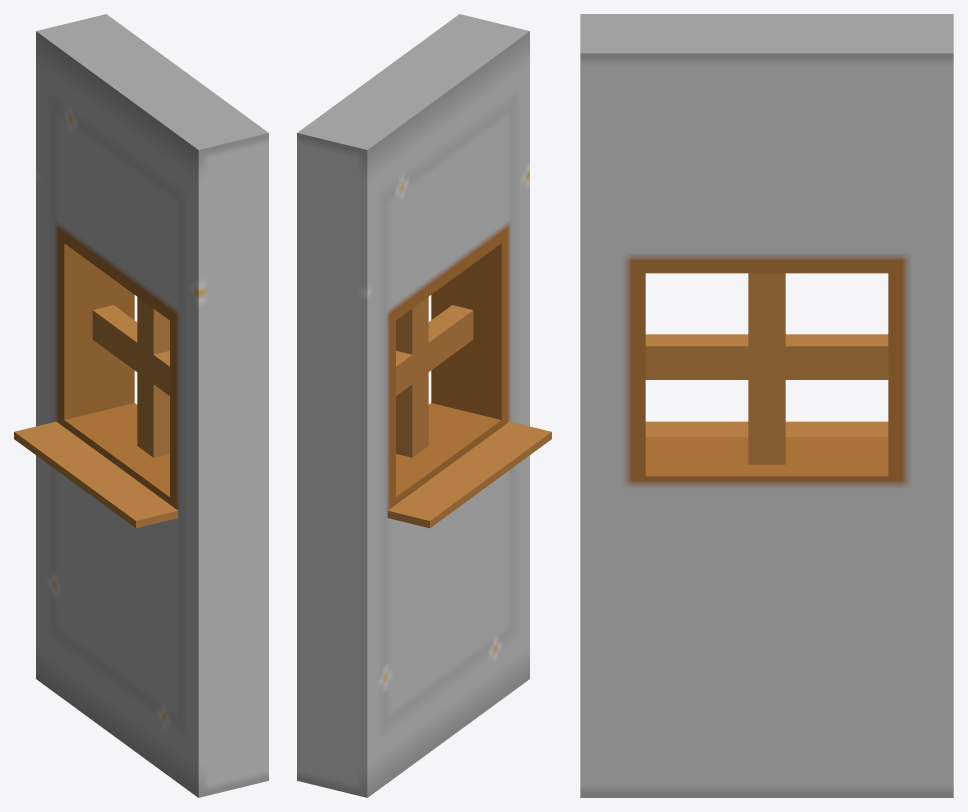
File: wall_tile_window.fbx
The picture shows the model from 3 angles, left to right: view 1: azimuth 30°, elevation 25°; view 2: azimuth 150°, elevation 25°; view 3: azimuth 270°, elevation 25°; orthographic projection. The views are drawn at different scales.
Visible parts, largest first — view 1: wall_tile_window; view 2: wall_tile_window; view 3: wall_tile_window.
Boxes of the visible parts, x1=… form: wall_tile_window: x1=14, y1=14, x2=268, y2=797; wall_tile_window: x1=297, y1=14, x2=551, y2=797; wall_tile_window: x1=580, y1=14, x2=953, y2=797.
Size of the model in its own units: 16 by 88 by 40.
